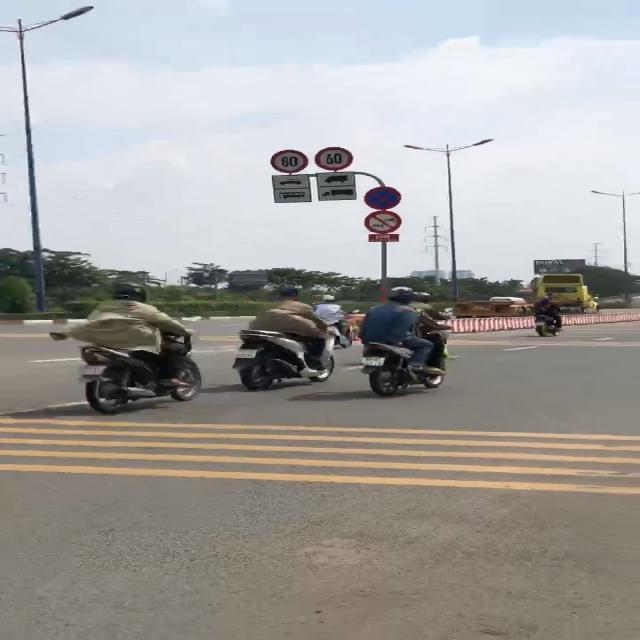Bien bao cam dung xe va do xe: (357, 185, 403, 211)
Bien bao toc do toi da cho phep: (310, 145, 358, 174), (266, 147, 310, 175)
